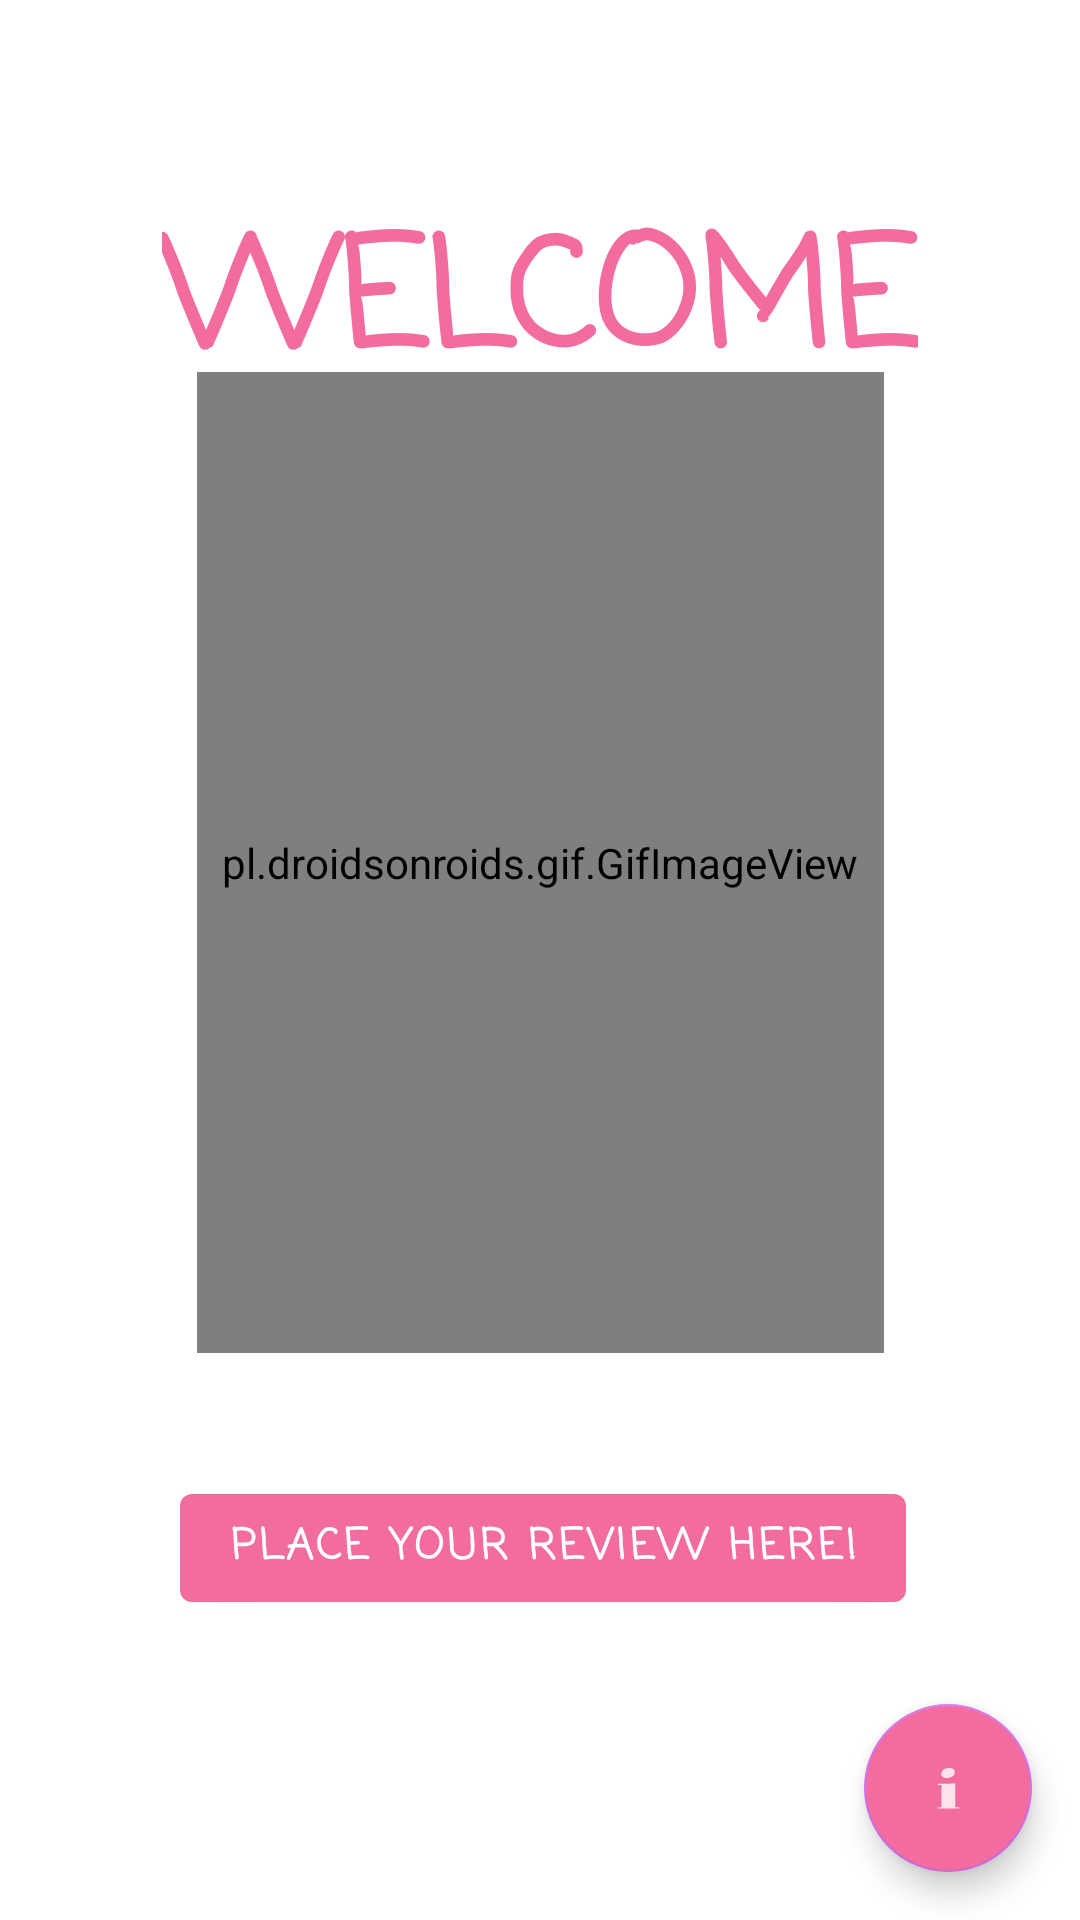

Icon bounding boxes for this 1080×1920 phone screenshot, format rect(x1, y1, x2, y2):
info: rect(864, 1704, 1032, 1872)
